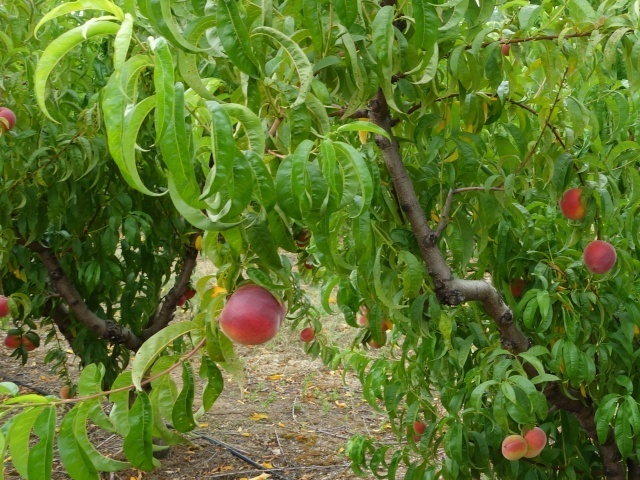peach: (216, 281, 287, 353), (577, 237, 619, 282), (557, 184, 598, 229), (517, 423, 549, 462), (496, 433, 533, 466), (400, 418, 429, 447), (1, 102, 21, 137), (347, 307, 374, 332), (363, 331, 390, 353), (18, 332, 43, 354), (296, 326, 319, 346), (2, 331, 23, 351), (55, 383, 76, 402), (1, 290, 14, 320)
